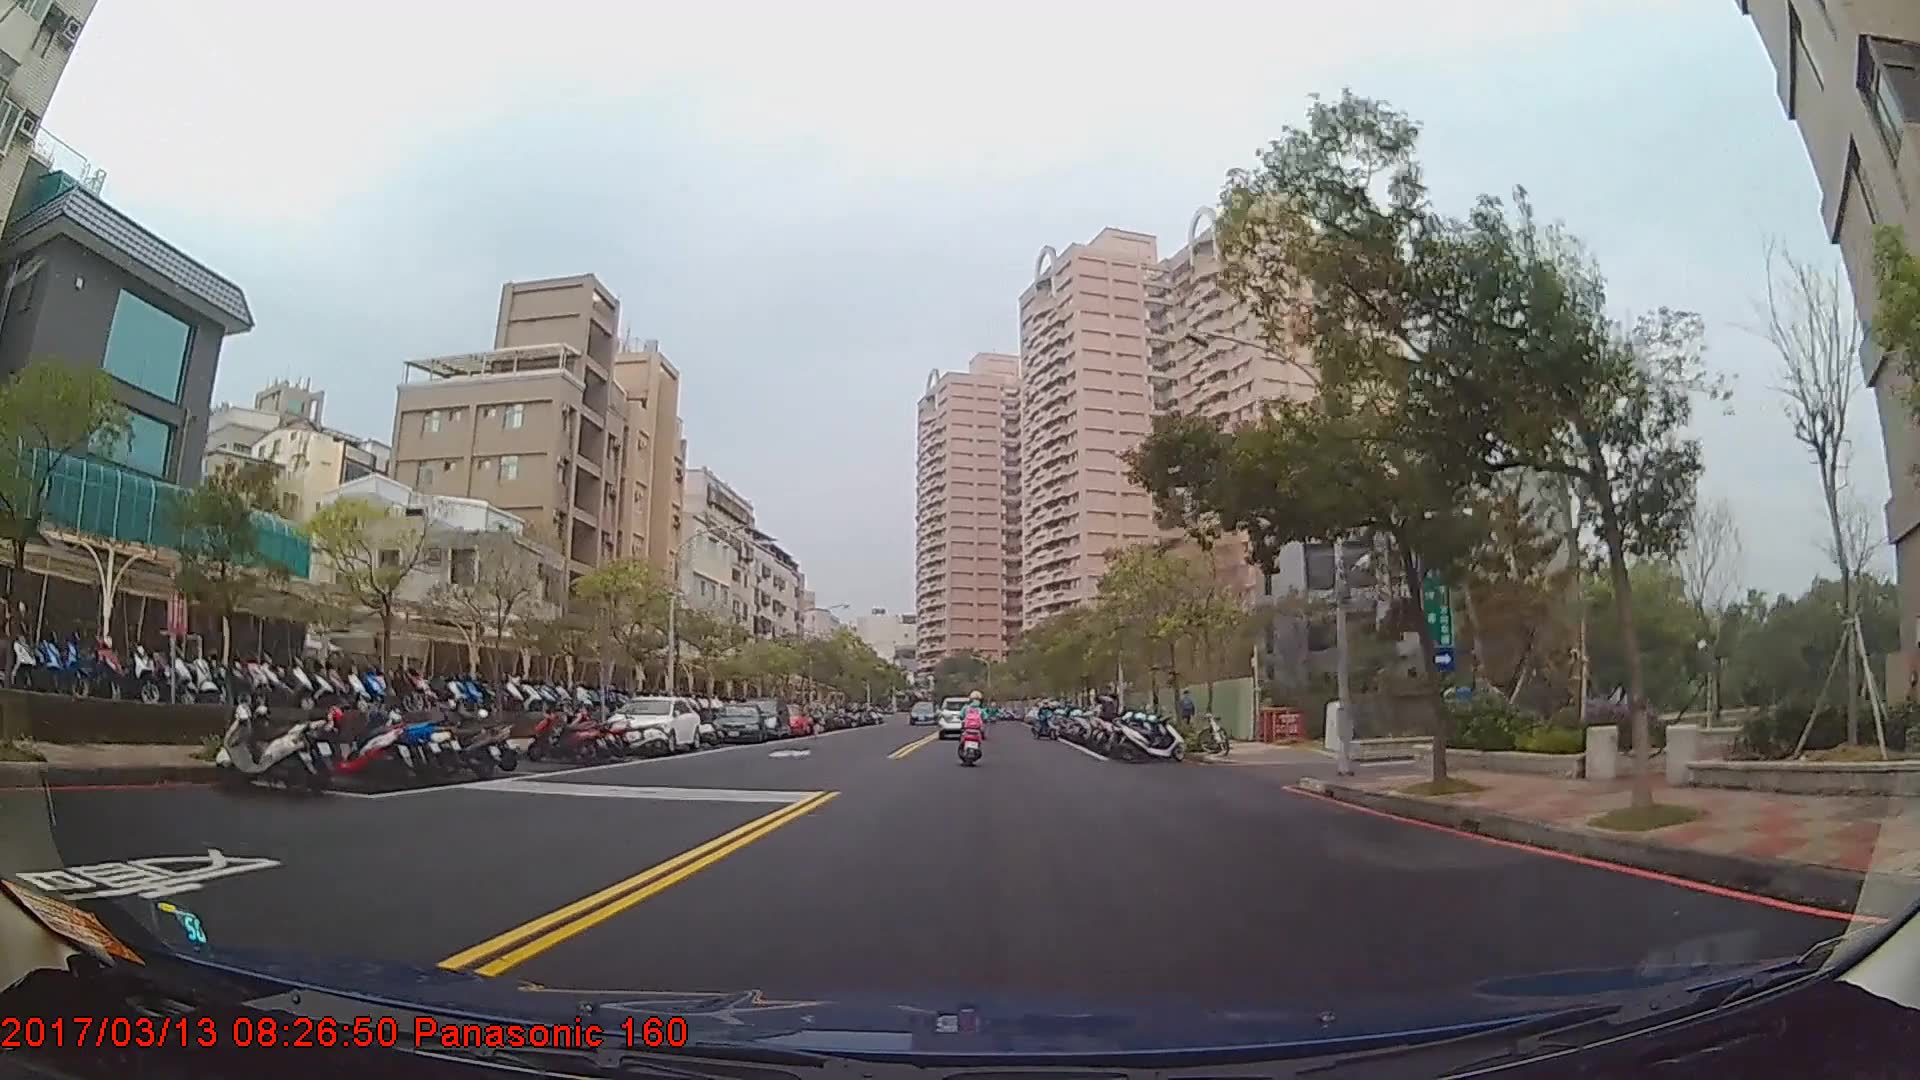pedestrian: (1177, 688, 1197, 740)
rider: (962, 689, 990, 761)
vehicle: (601, 692, 701, 751), (709, 699, 765, 741), (737, 694, 789, 739), (936, 694, 986, 739), (908, 699, 936, 723)
